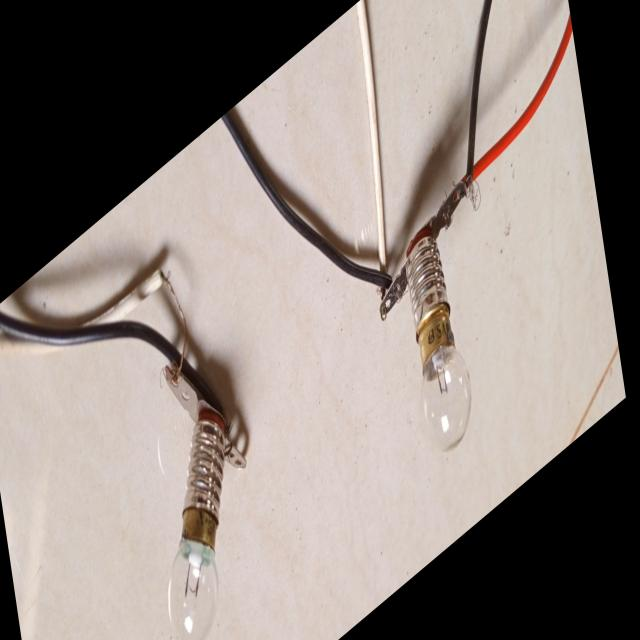Electric Bulbs: (127, 131, 514, 640)
